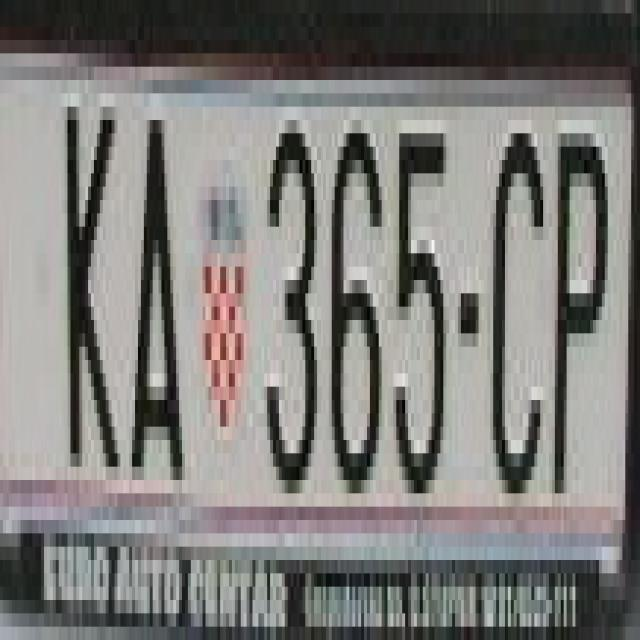3: (267, 133, 320, 480)
5: (388, 133, 446, 467)
6: (328, 133, 382, 467)
A: (138, 93, 179, 480)
C: (488, 134, 534, 494)
K: (64, 80, 120, 440)
P: (555, 93, 608, 507)
